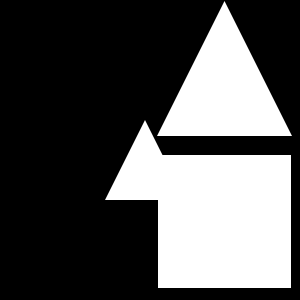circle: (158, 155, 291, 288)
rectangle: (173, 177, 269, 273)
triangle: (157, 1, 292, 136), (105, 120, 185, 200)
